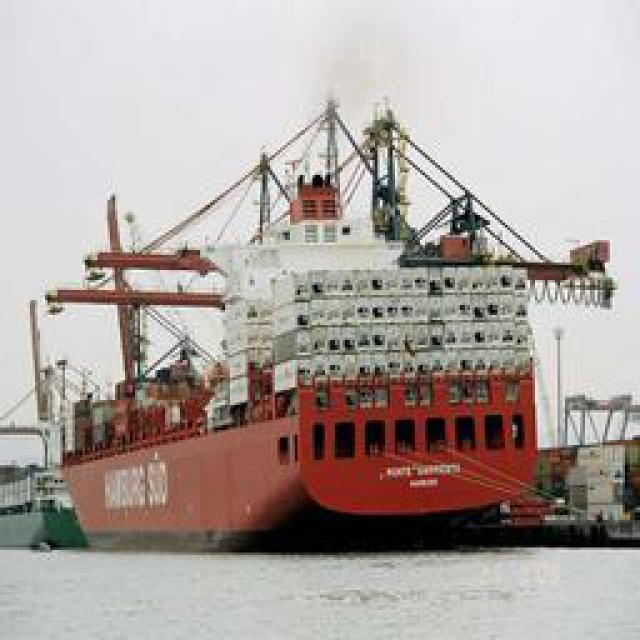Ship: (39, 143, 552, 557)
